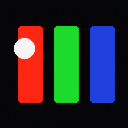2 circle: (14, 38, 34, 58)
